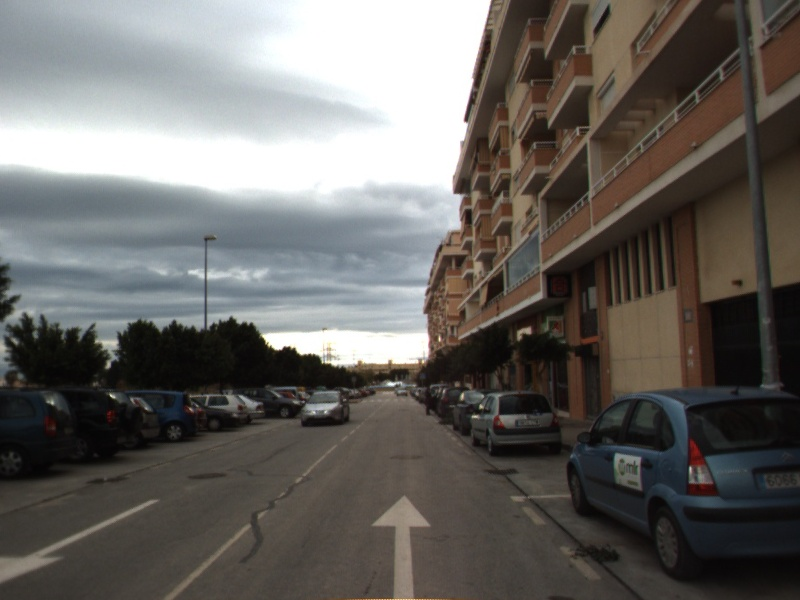STRAIGHT: (369, 492, 433, 600)
